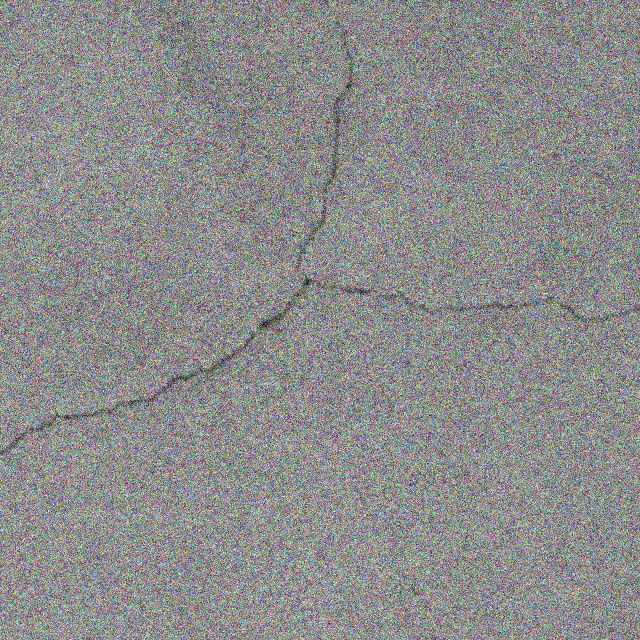SurfaceCrack: (0, 77, 639, 520)
